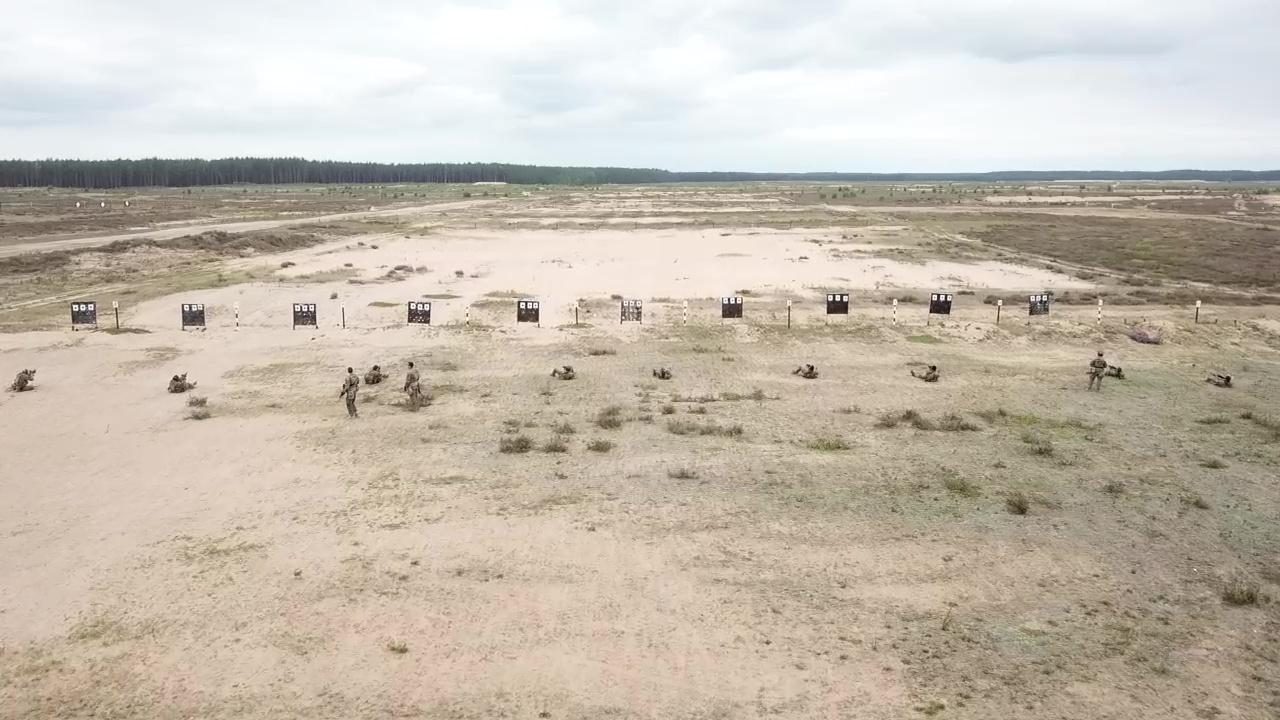Soldier: (338, 363, 362, 420), (401, 355, 424, 412), (1084, 348, 1110, 394), (164, 371, 201, 395), (908, 361, 941, 386), (12, 366, 41, 392), (790, 361, 821, 382), (362, 361, 387, 386), (549, 363, 578, 383)
